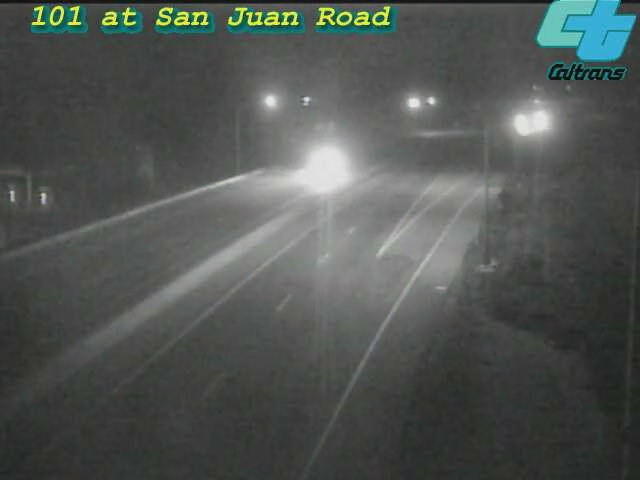vehicle: (279, 124, 359, 204), (501, 106, 551, 156), (494, 97, 544, 147), (513, 96, 563, 146)
